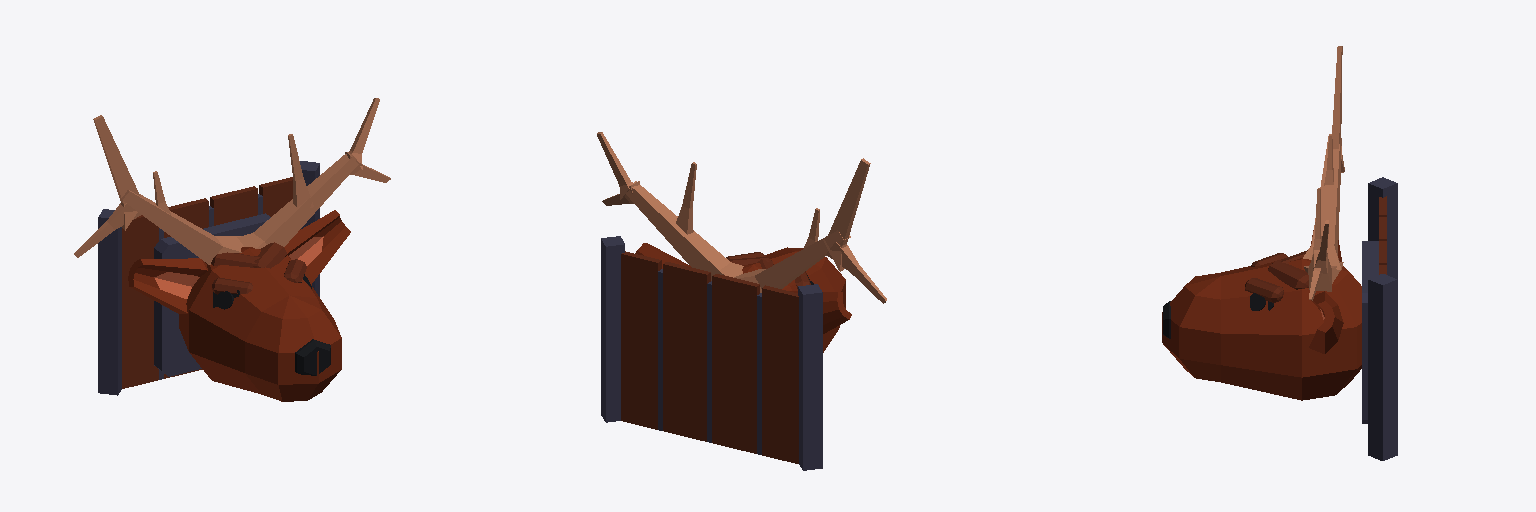
File: AnimalTrophy.obj
3 views of the same model, side by side, from view 1: azimuth 30°, elevation 25°; view 2: azimuth 150°, elevation 25°; view 3: azimuth 270°, elevation 25° (orthographic).
Parts seen in each view (by area): view 1: body_point, fence_garden, tree_branchLongBend, ear_point, roof_flat, leg, tree_branchLong, leafs_round; view 2: fence_garden, tree_branchLongBend, tree_branchLong, body_point, ear_point, leg; view 3: body_point, fence_garden, tree_branchLongBend, leg, roof_flat, ear_point, tree_branchLong.
Boxes of the visible parts, x1,y1,x2,y2 form: body_point: [179, 247, 341, 401]; fence_garden: [98, 161, 319, 395]; tree_branchLongBend: [93, 98, 379, 264]; ear_point: [128, 210, 350, 313]; roof_flat: [154, 213, 270, 376]; leg: [211, 242, 306, 294]; tree_branchLong: [74, 134, 313, 257]; leafs_round: [295, 339, 330, 375]; fence_garden: [601, 236, 822, 470]; tree_branchLongBend: [597, 132, 870, 292]; tree_branchLong: [676, 162, 886, 303]; body_point: [742, 247, 845, 352]; ear_point: [635, 243, 851, 333]; leg: [726, 252, 810, 288]; body_point: [1162, 258, 1361, 400]; fence_garden: [1368, 177, 1397, 460]; tree_branchLongBend: [1303, 46, 1344, 291]; leg: [1245, 250, 1308, 302]; roof_flat: [1362, 241, 1378, 423]; ear_point: [1309, 230, 1343, 353]; tree_branchLong: [1312, 135, 1343, 256].
Bounding box in the file's own units: 1.11 × 1.05 × 0.7492.